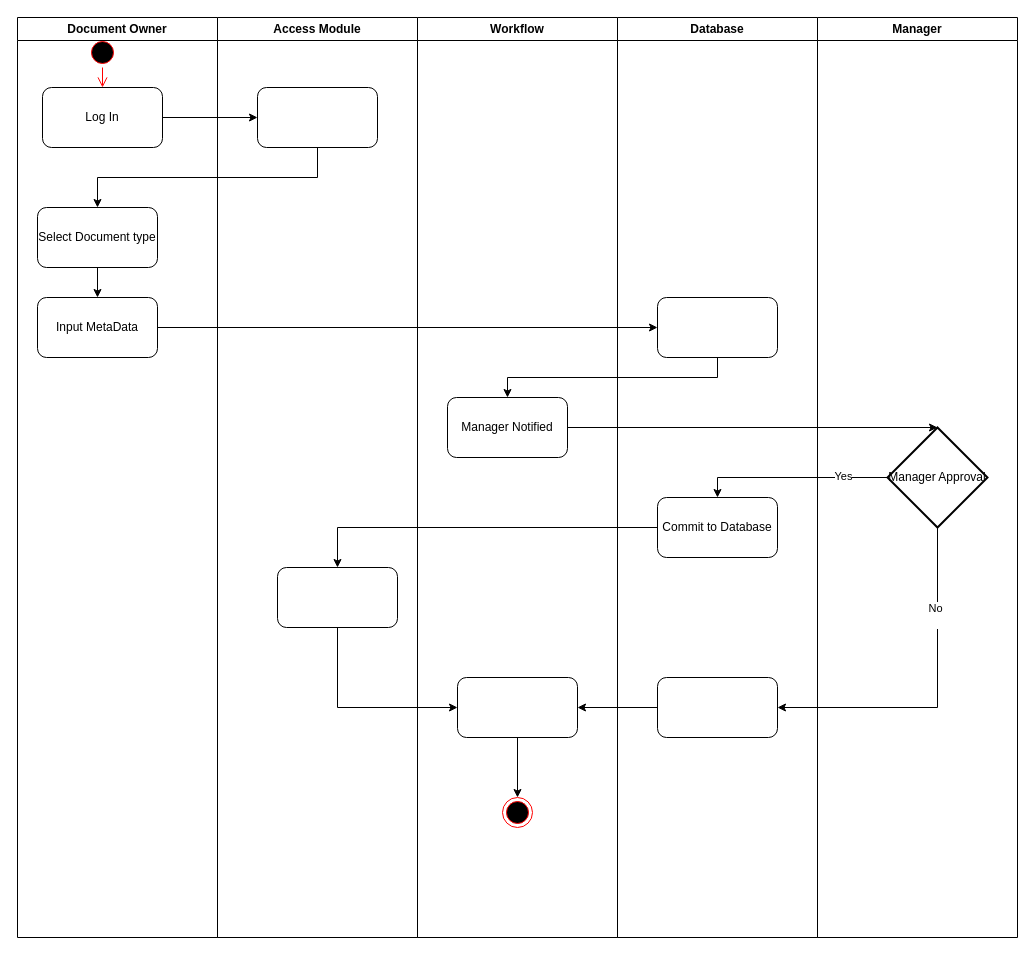
The diagram is 1035 pixels wide and 955 high, and some of its shapes have lost their labels. The box of each missing label's shape, as (x1, y1, x2, y2) in pixels:
Access Level Granted: (256, 86, 378, 148)
Employee Notified: (456, 676, 578, 738)
Instance created in Database: (656, 296, 778, 358)
Non commit to Database: (656, 676, 778, 738)
Permissions assigned: (276, 566, 398, 628)
